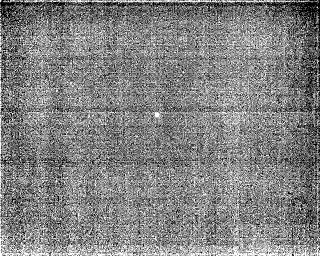BIRD: (152, 109, 163, 123)
